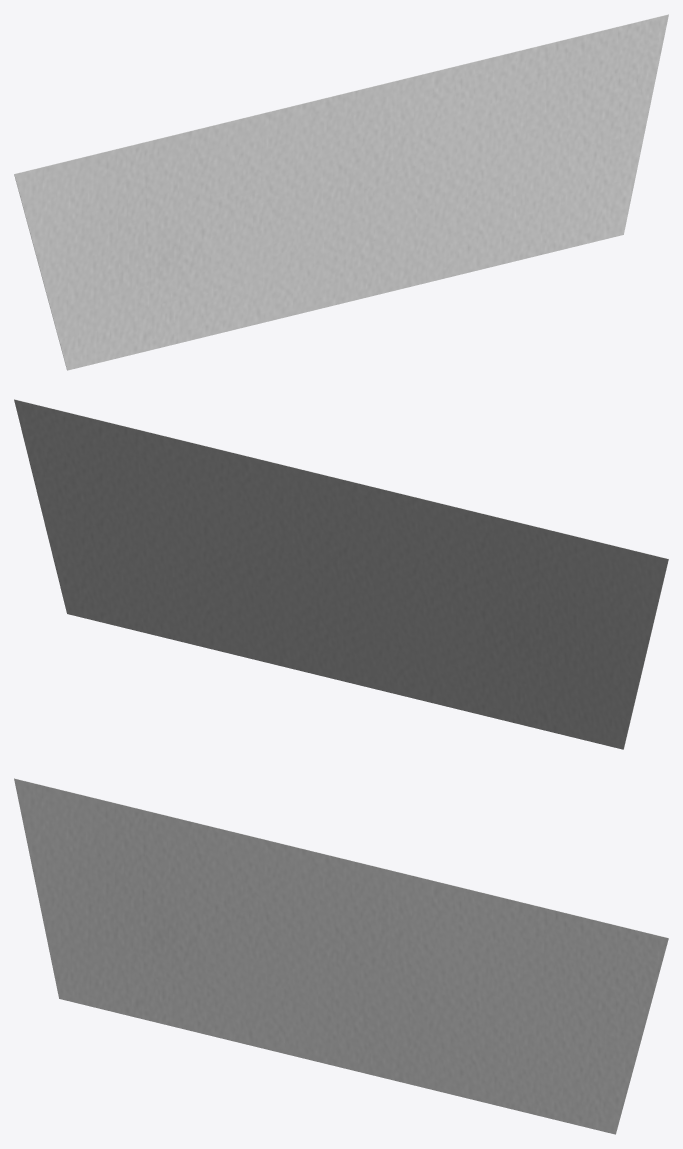
File: LetterFlap.glb
3 views of the same model, one above another, from view 1: azimuth 30°, elevation 25°; view 2: azimuth 150°, elevation 25°; view 3: azimuth 330°, elevation 25° (orthographic).
Visible parts, largest first — view 1: grid1; view 2: grid1; view 3: grid1.
Boxes of the visible parts, <box> form: grid1: <box>14,14,668,370</box>; grid1: <box>14,399,668,749</box>; grid1: <box>14,778,668,1134</box>.
Bounding box in the file's own units: 1 × 0.2999 × 0.0115.
2 materials, 2 textured.
